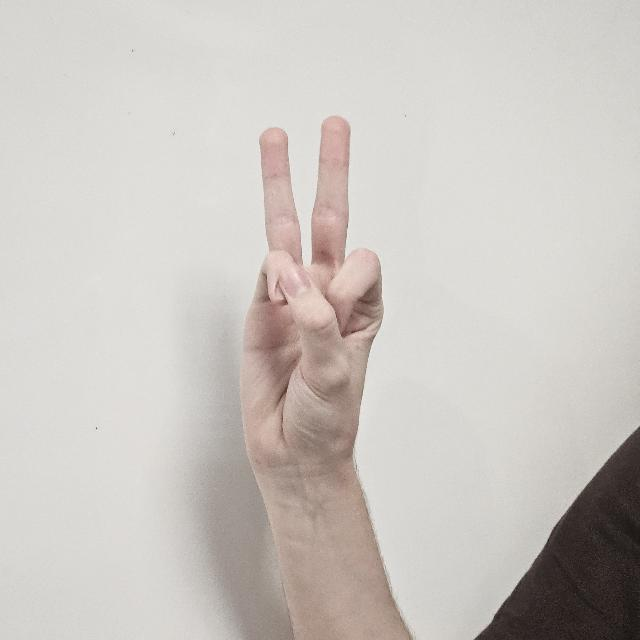R: (234, 117, 390, 531)
